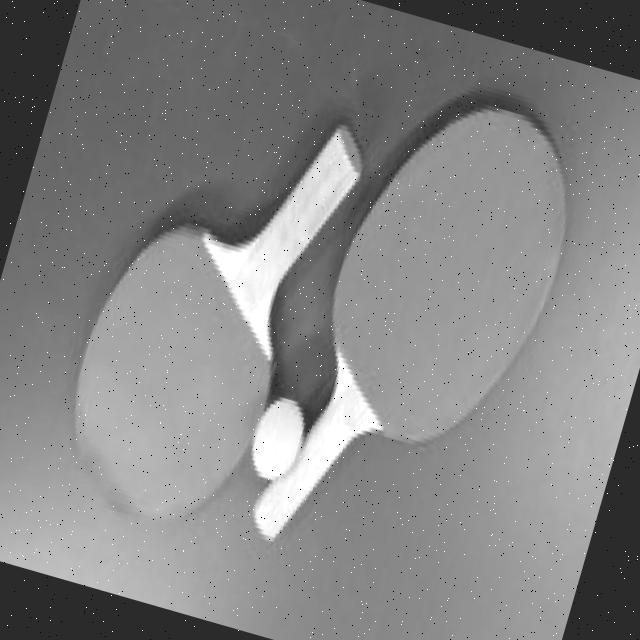ping-pong-ball: (242, 392, 316, 494)
